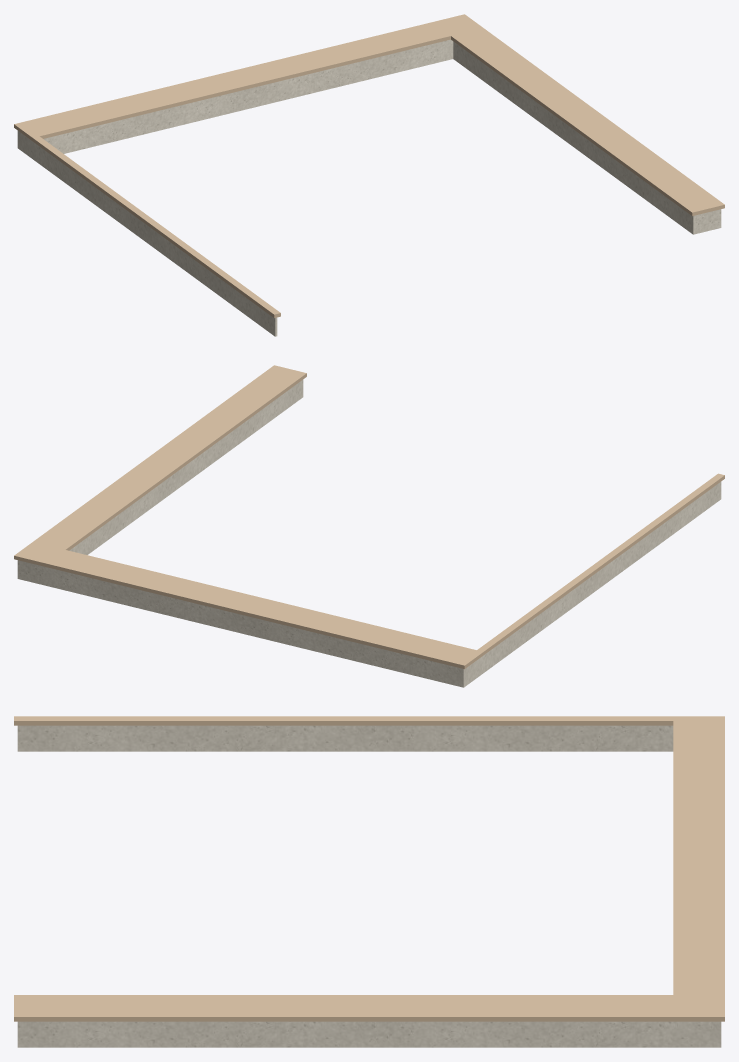
The model's file is stair_core_slab_192_168_29.glb.
3 renders of one model, top to bottom at view 1: azimuth 30°, elevation 25°; view 2: azimuth 150°, elevation 25°; view 3: azimuth 270°, elevation 25°, orthographic. The views are drawn at different scales.
Visible parts, largest first — view 1: stair_core_slab_192_168_29_floor, stair_core_slab_192_168_29_plaster; view 2: stair_core_slab_192_168_29_floor, stair_core_slab_192_168_29_plaster; view 3: stair_core_slab_192_168_29_floor, stair_core_slab_192_168_29_plaster.
Part boxes in pixels (x1,y1,x2,y2): stair_core_slab_192_168_29_floor: [14, 14, 724, 318]; stair_core_slab_192_168_29_plaster: [17, 39, 721, 336]; stair_core_slab_192_168_29_floor: [14, 365, 724, 669]; stair_core_slab_192_168_29_plaster: [17, 379, 721, 687]; stair_core_slab_192_168_29_floor: [14, 716, 724, 1021]; stair_core_slab_192_168_29_plaster: [17, 725, 721, 1047].
Size of the model in its own units: 4 by 0.2 by 4.
2 materials, 1 textured.
